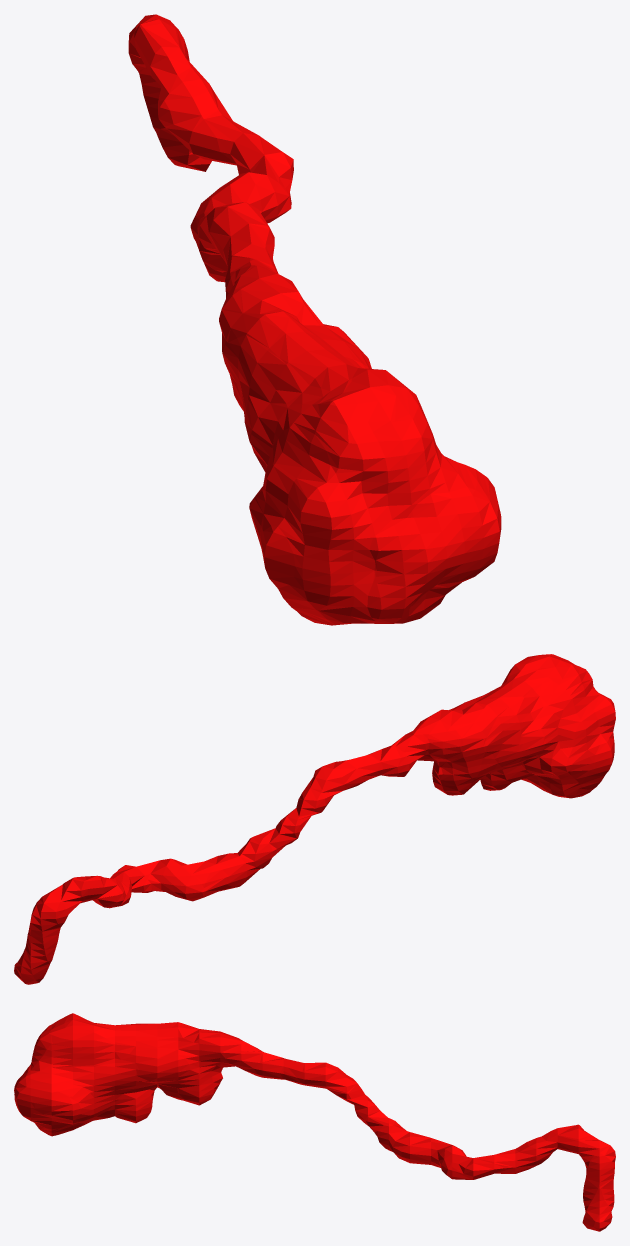
File: corA_coarse.dae
3 renders of one model, top to bottom at view 1: azimuth 30°, elevation 25°; view 2: azimuth 150°, elevation 25°; view 3: azimuth 270°, elevation 25°, orthographic. The views are drawn at different scales.
Parts seen in each view (by area): view 1: corA; view 2: corA; view 3: corA.
Boxes of the visible parts, x1,y1,x2,y2 form: corA: (128,14,501,625); corA: (14,654,615,984); corA: (14,1013,615,1231).
Size of the model in its own units: 99.84 by 50.17 by 217.
